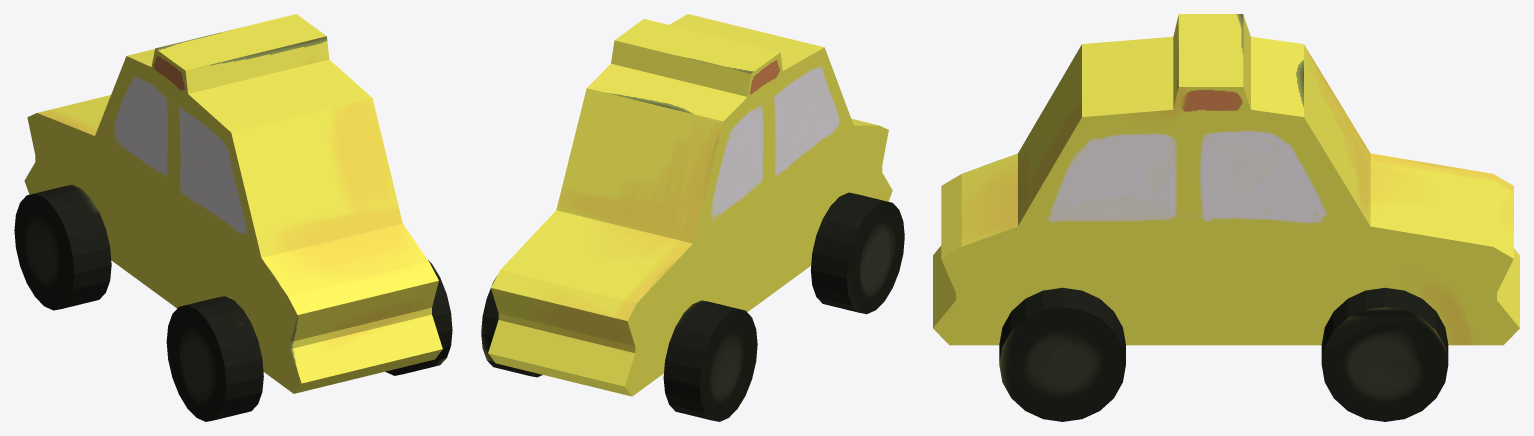
The model's file is taxiFINAL.fbx.
The picture shows the model from 3 angles, left to right: view 1: azimuth 30°, elevation 25°; view 2: azimuth 150°, elevation 25°; view 3: azimuth 270°, elevation 25°; orthographic projection. The views are drawn at different scales.
Visible parts, largest first — view 1: taxi; view 2: taxi; view 3: taxi.
Boxes of the visible parts, x1,y1,x2,y2 form: taxi: [14, 14, 452, 421]; taxi: [481, 14, 904, 421]; taxi: [933, 14, 1519, 421].
Bounding box in the file's own units: 257 × 322 × 546.
